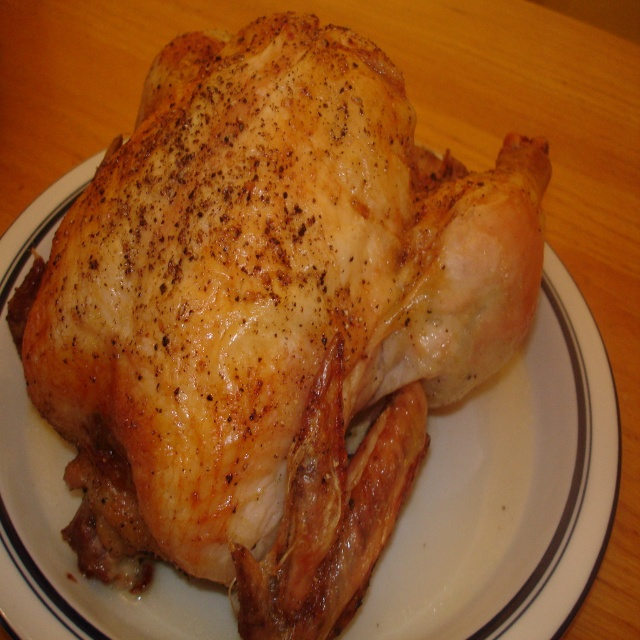Chicken: (6, 2, 553, 640)
